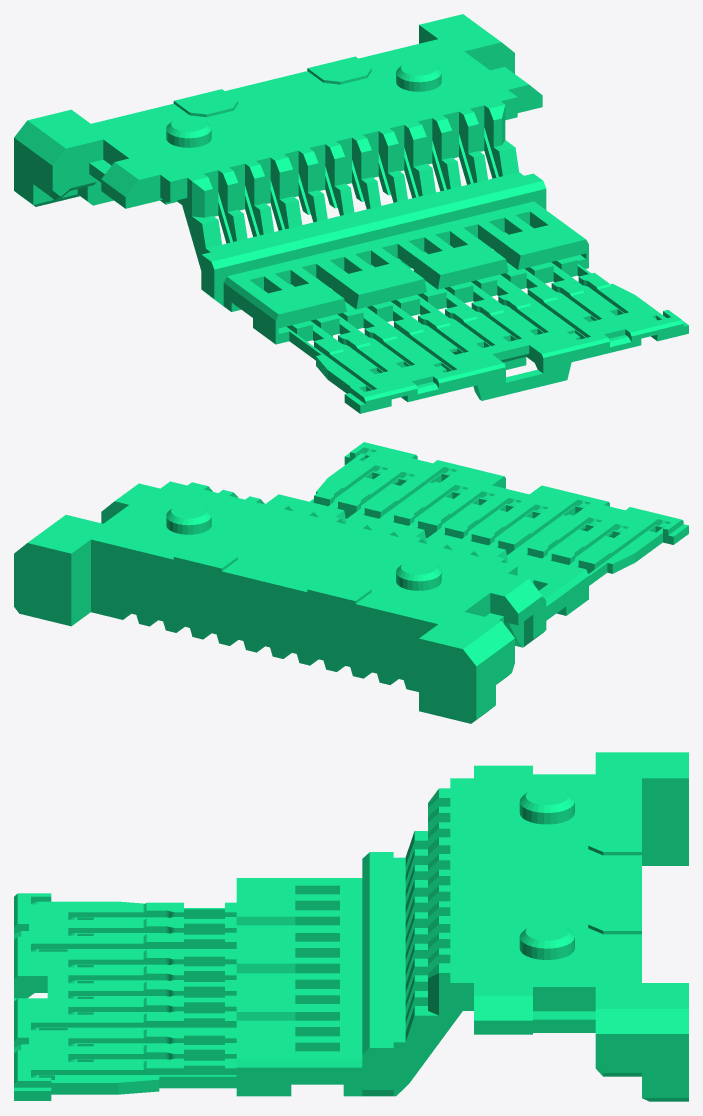
3 renders of one model, top to bottom at view 1: azimuth 30°, elevation 25°; view 2: azimuth 150°, elevation 25°; view 3: azimuth 270°, elevation 25°, orthographic. The views are drawn at different scales.
Parts seen in each view (by area): view 1: UT11123-1A5W0-7F; view 2: UT11123-1A5W0-7F; view 3: UT11123-1A5W0-7F.
Part boxes in pixels (<box>): UT11123-1A5W0-7F: <box>14,14,688,413</box>; UT11123-1A5W0-7F: <box>14,442,688,723</box>; UT11123-1A5W0-7F: <box>14,752,688,1101</box>.
Bounding box in the file's own units: 0.0179 × 0.00491 × 0.0187.
